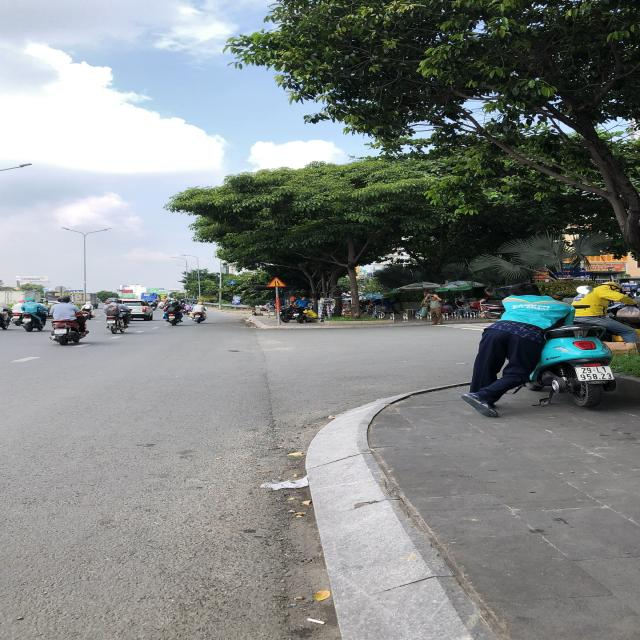Bien bao duong bi thu hep: (264, 276, 288, 288)
